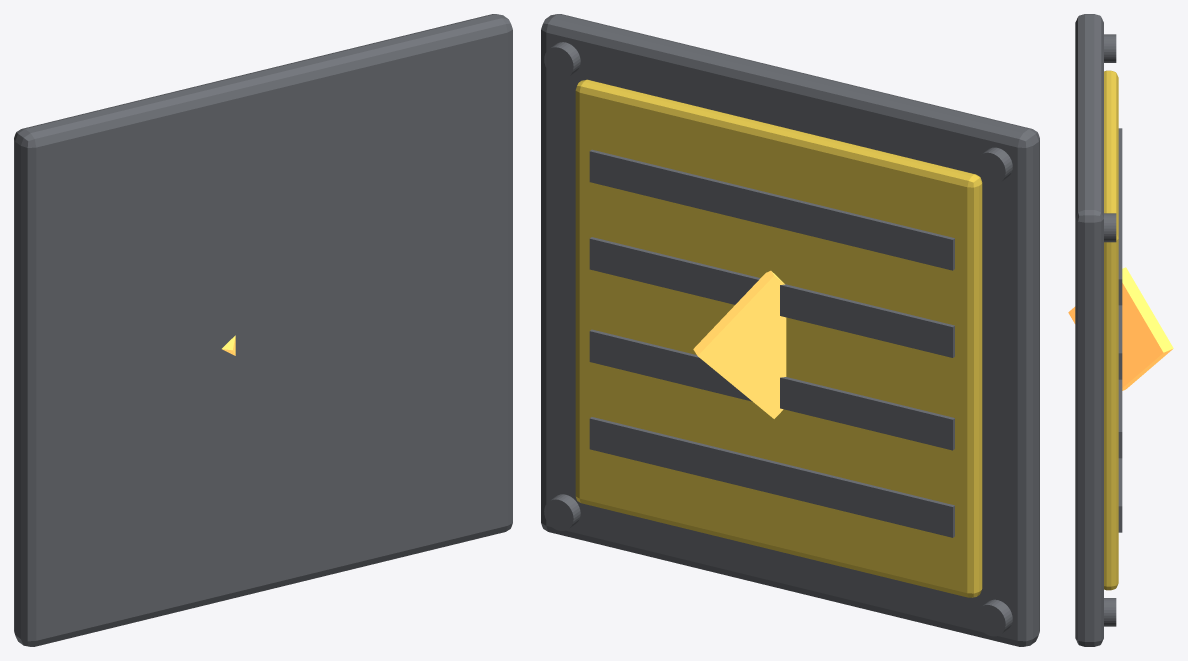
The model's file is hazard_pad.glb.
3 views of the same model, side by side, from view 1: azimuth 30°, elevation 25°; view 2: azimuth 150°, elevation 25°; view 3: azimuth 270°, elevation 25° (orthographic). The views are drawn at different scales.
Visible parts, largest first — view 1: hazard_pad; view 2: hazard_pad; view 3: hazard_pad.
Boxes of the visible parts, x1,y1,x2,y2 form: hazard_pad: [14, 14, 512, 646]; hazard_pad: [541, 14, 1039, 646]; hazard_pad: [1068, 14, 1173, 646].
Size of the model in its own units: 1 by 1 by 0.2192.
